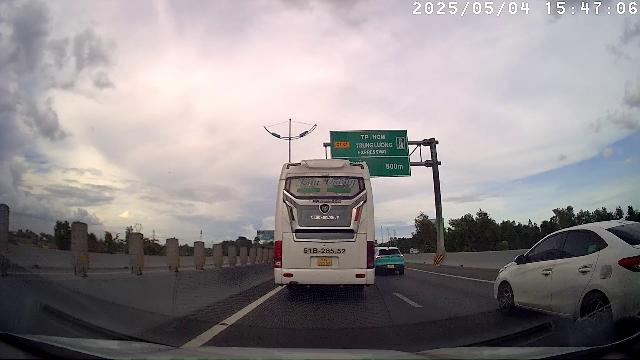438-ket-thuc-duong-cao-toc: (395, 135, 406, 150)
